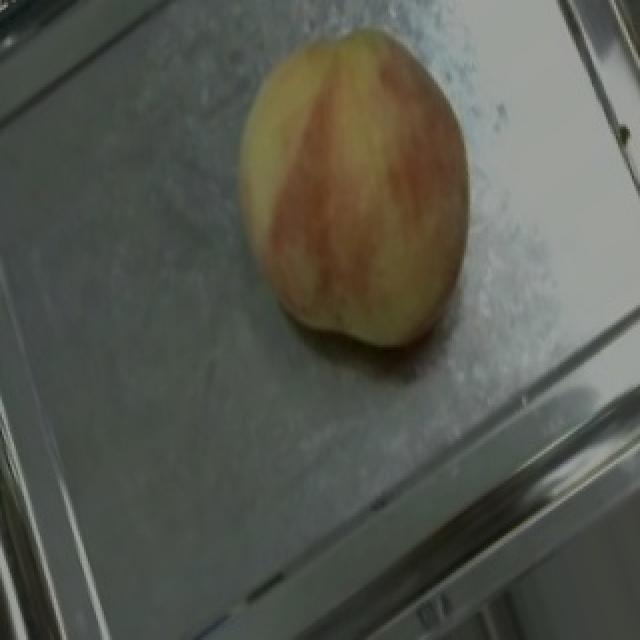Fruit: (188, 0, 524, 389)
